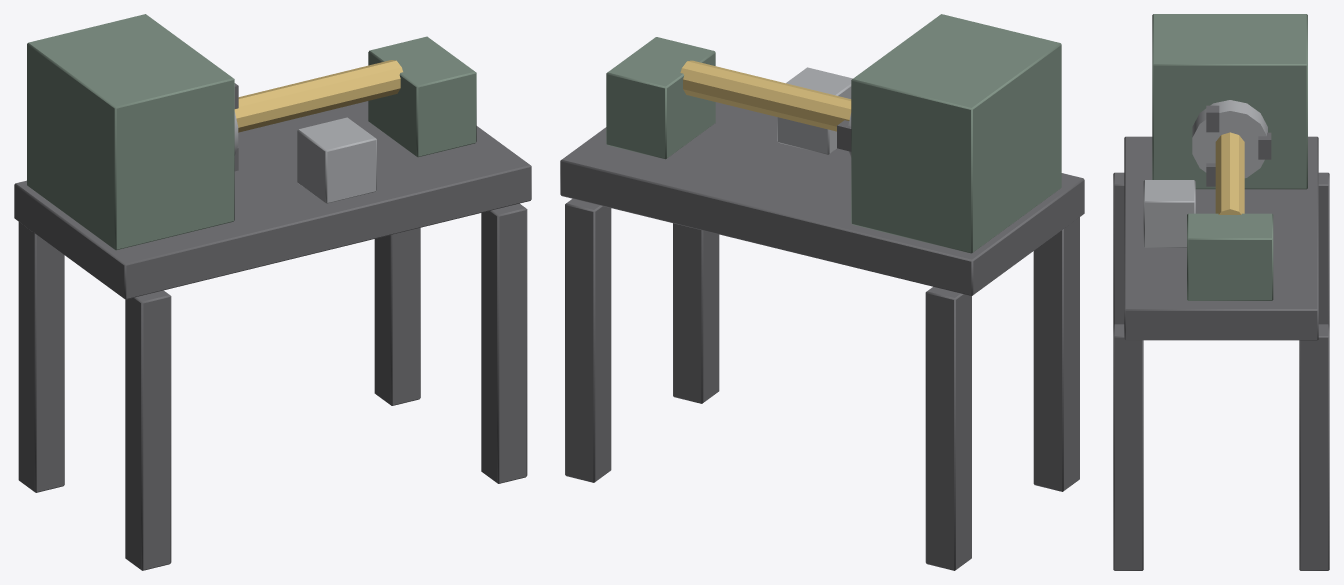
File: feM_Lathe.fbx
3 views of the same model, side by side, from view 1: azimuth 30°, elevation 25°; view 2: azimuth 150°, elevation 25°; view 3: azimuth 270°, elevation 25° (orthographic). The views are drawn at different scales.
Visible parts, largest first — view 1: feM_Lathe_Base, FeSpin_x4_Chuck; view 2: feM_Lathe_Base, FeSpin_x4_Chuck; view 3: feM_Lathe_Base, FeSpin_x4_Chuck.
Boxes of the visible parts, x1,y1,x2,y2 form: feM_Lathe_Base: (14, 14, 531, 570); FeSpin_x4_Chuck: (234, 60, 402, 171); feM_Lathe_Base: (560, 14, 1084, 570); FeSpin_x4_Chuck: (680, 60, 851, 157); feM_Lathe_Base: (1113, 14, 1329, 570); FeSpin_x4_Chuck: (1192, 100, 1271, 214).
Size of the model in its own units: 0.95 by 1 by 0.5.
